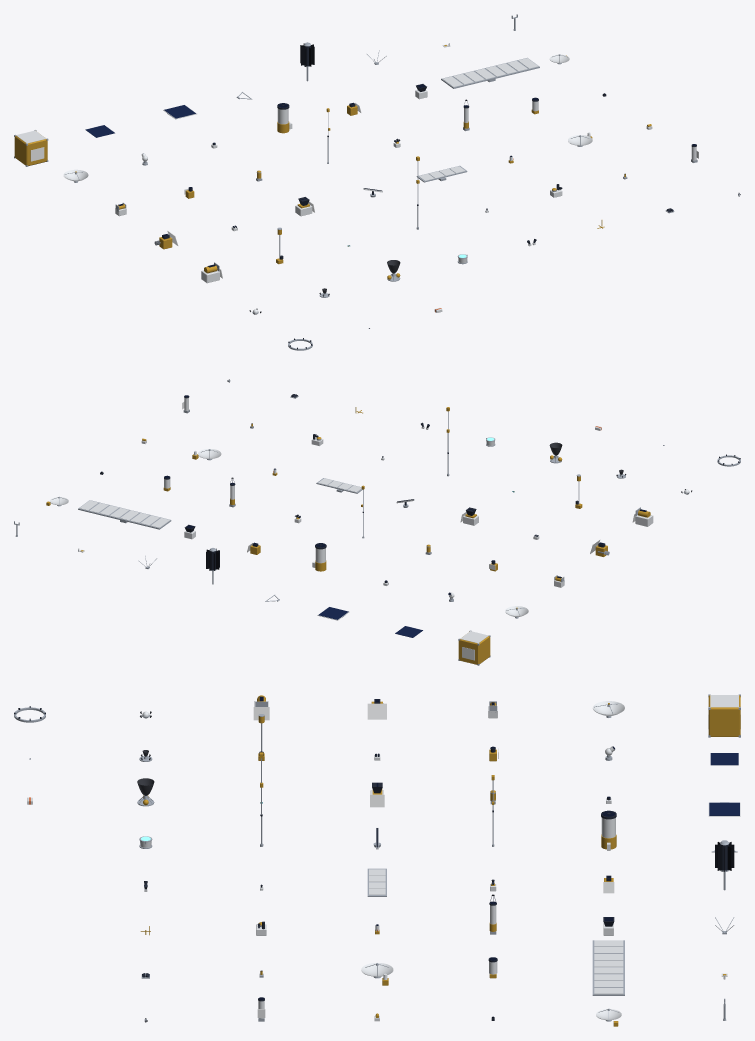
The model's file is kit.glb.
3 renders of one model, top to bottom at view 1: azimuth 30°, elevation 25°; view 2: azimuth 150°, elevation 25°; view 3: azimuth 270°, elevation 25°, orthographic. The views are drawn at different scales.
Visible parts, largest first — view 1: inst_sar, bus; view 2: inst_sar, bus; view 3: inst_sar, bus, rtg, inst_cam_hires, inst_sar_compact.
Part boxes in pixels (x1=…): inst_sar: x1=441, y1=57, x2=539, y2=88; bus: x1=14, y1=130, x2=48, y2=166; inst_sar: x1=78, y1=500, x2=171, y2=529; bus: x1=458, y1=630, x2=490, y2=665; inst_sar: x1=592, y1=940, x2=624, y2=995; bus: x1=708, y1=694, x2=740, y2=737; rtg: x1=715, y1=840, x2=734, y2=890; inst_cam_hires: x1=601, y1=810, x2=616, y2=850; inst_sar_compact: x1=367, y1=868, x2=386, y2=896.
Size of the model in its own units: 23.37 by 3.71 by 22.61.
